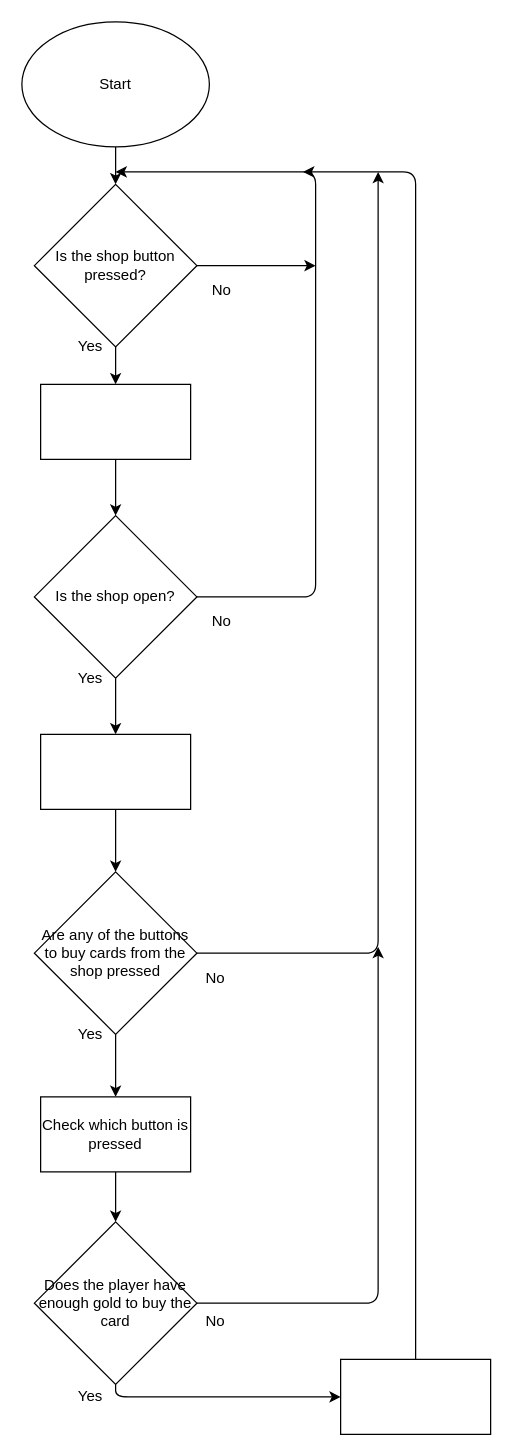
Image size: 513x1456. Some labels were removed from this diagram. Here are the shapes that lost their labels. From the top down, the centre of each, then its label:
At (115,421): "Toggle the shop state".
At (115,771): "Display the cards in the shop on the screen".
At (415,1396): "Add the card to the current player's hand".
